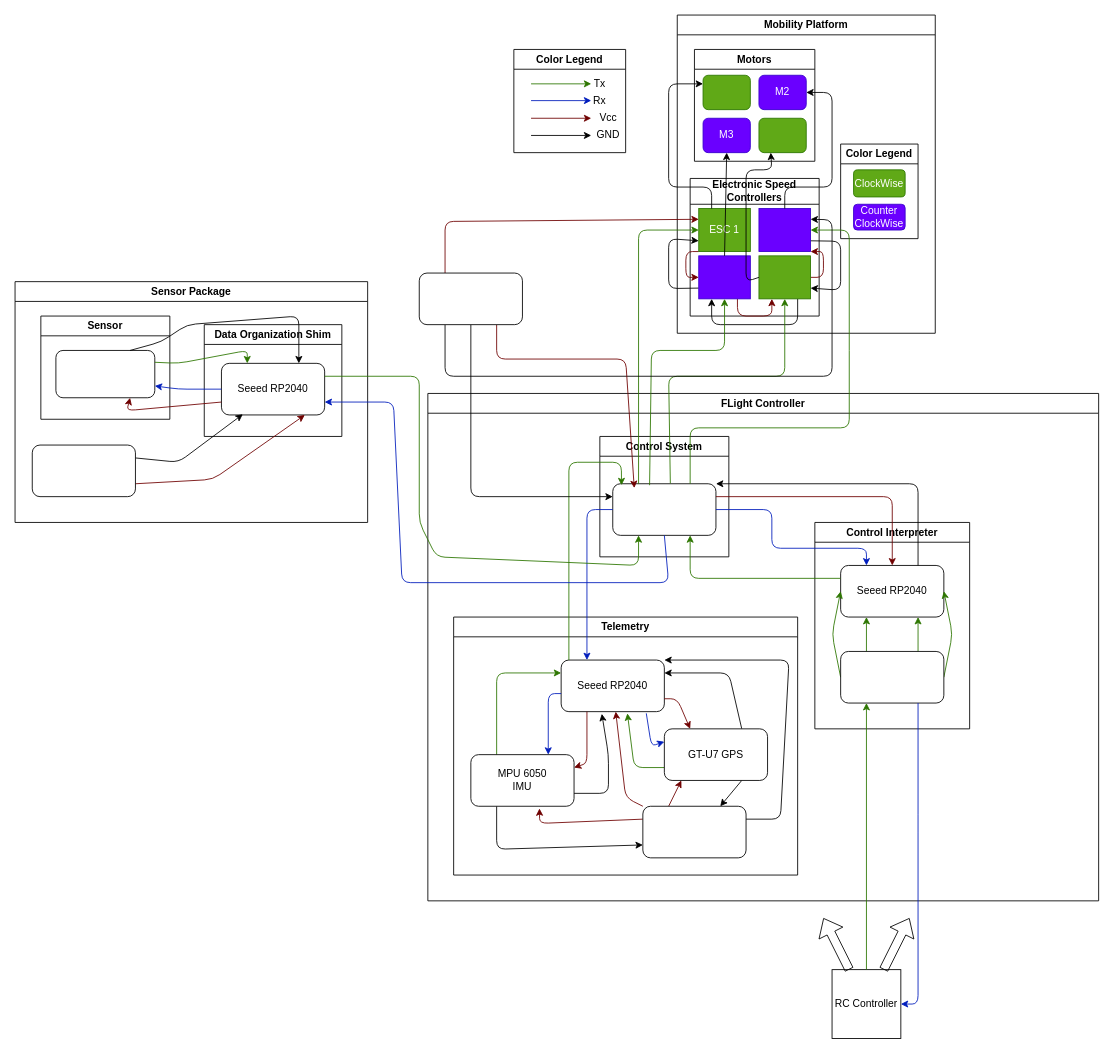
This 1114x1054 diagram has some shape labels left out. The centre of each missing label's shape, as x and y in pixels:
"6CH RC Receiver" belongs at point 892,677.
"Battery (3-5V)" belongs at point 83,470.
"Battery (5V)" belongs at point 694,831.
"Camera/Lidar/etc" belongs at point 105,374.
"ESC 2" belongs at point 784,230.
"ESC 3" belongs at point 724,277.
"ESC 4" belongs at point 784,277.
"LiPo Battery (11.1-22.2V)" belongs at point 470,298.
"M1" belongs at point 726,92.
"M4" belongs at point 782,135.
"RPI PICO" belongs at point 664,509.
